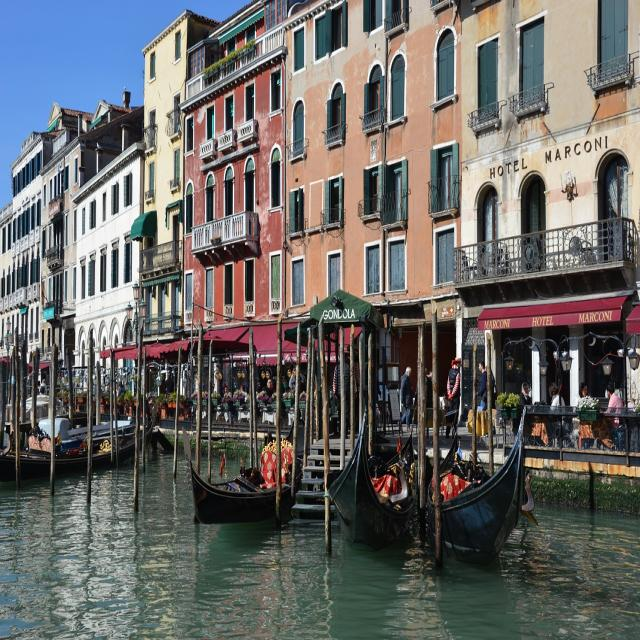boat: (426, 374, 545, 577), (182, 396, 312, 550), (327, 385, 422, 573)
